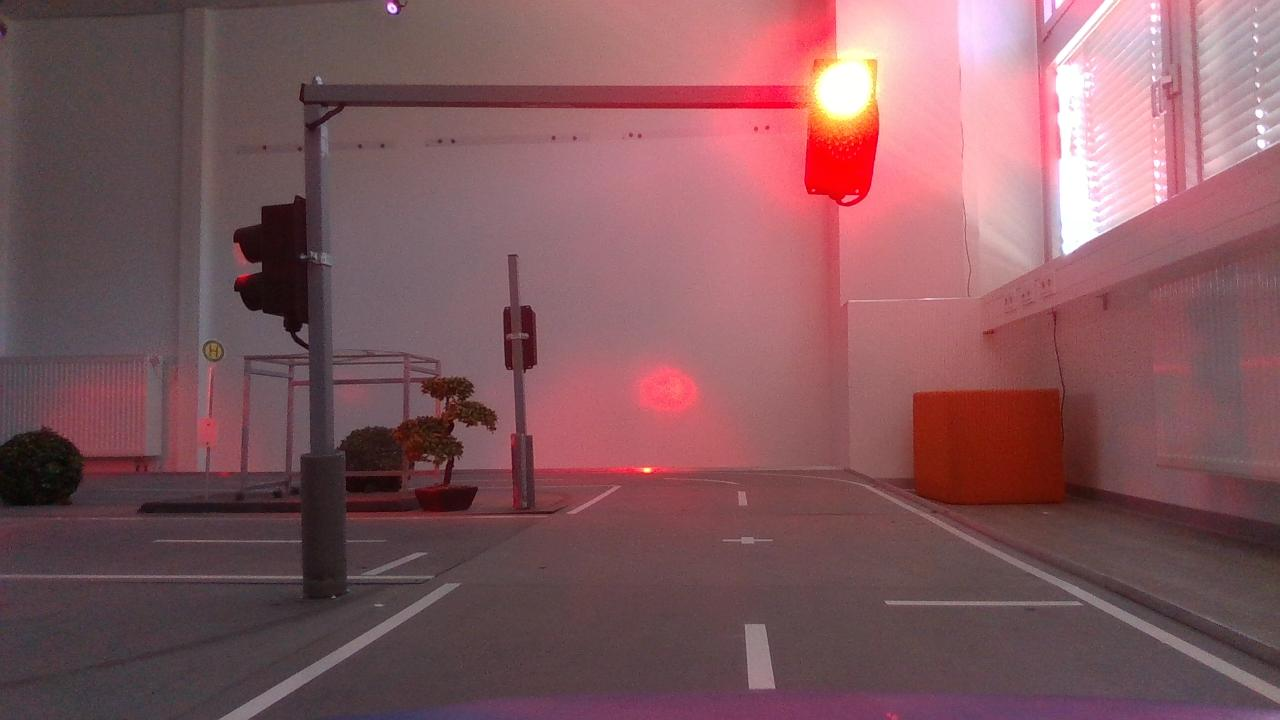traffic_light_red: (794, 48, 892, 222)
